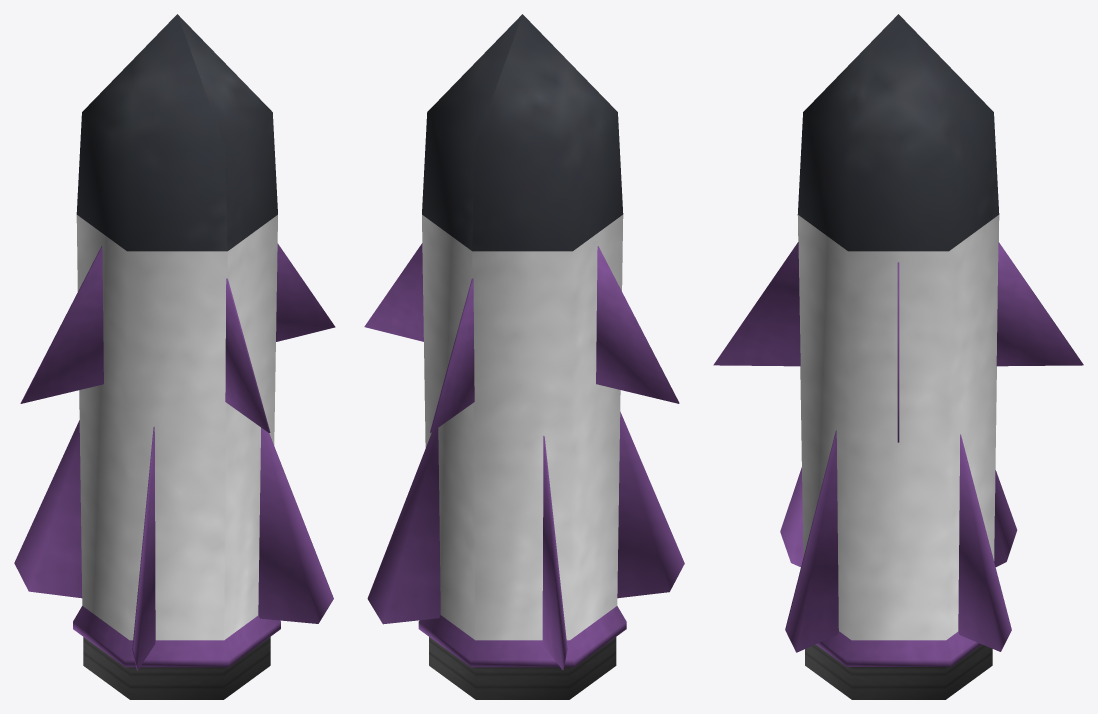
File: Rocket.fbx
The picture shows the model from 3 angles, left to right: view 1: azimuth 30°, elevation 25°; view 2: azimuth 150°, elevation 25°; view 3: azimuth 270°, elevation 25°; orthographic projection.
Visible parts, largest first — view 1: Rocket; view 2: Rocket; view 3: Rocket.
Boxes of the visible parts, left/top/right/bottom form: Rocket: left=14, top=14, right=335, bottom=699; Rocket: left=364, top=14, right=684, bottom=699; Rocket: left=713, top=14, right=1083, bottom=699.
Size of the model in its own units: 0.9222 by 1.82 by 0.9393.
